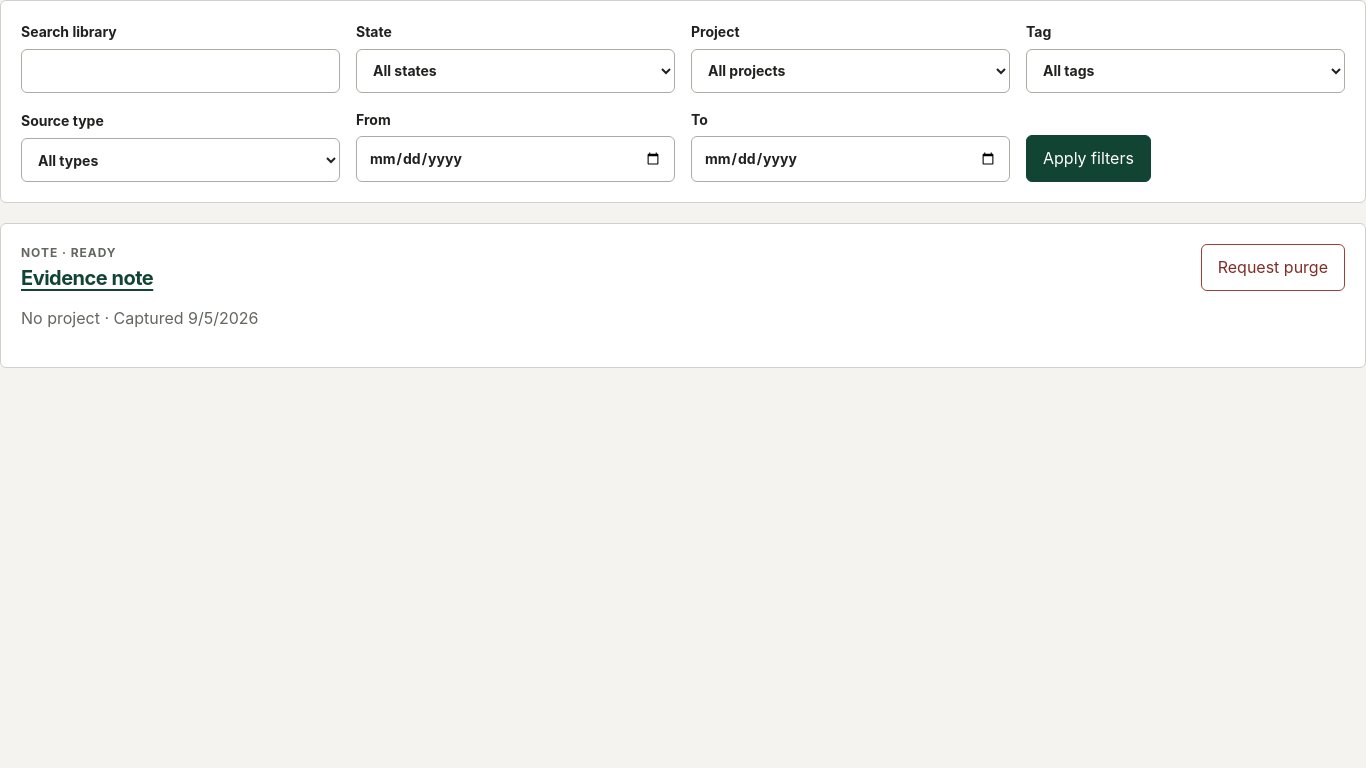
it: LibraryView › resolves and applies an immediate terminal purge replay
expect the link "Evidence note" is shown: met, box [21,266,153,290]
What coordinates should you click on to do the following:
click the button "Request purge"
I would click on:
 (1273, 268)
Its box is [1201,244,1345,291].
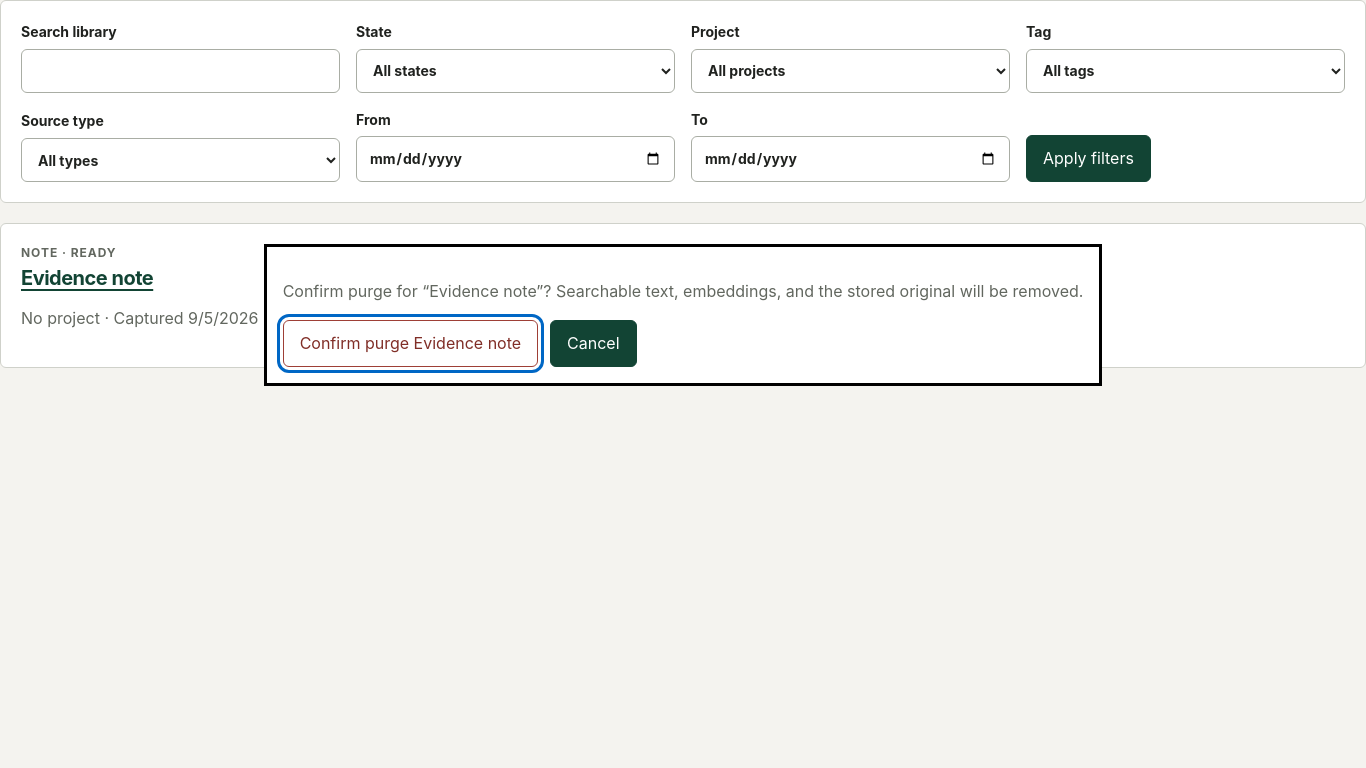
What coordinates should you click on to do the following:
click the button "Confirm purge Evidence note"
I would click on:
 (410, 343)
Its box is [283,320,538,367].
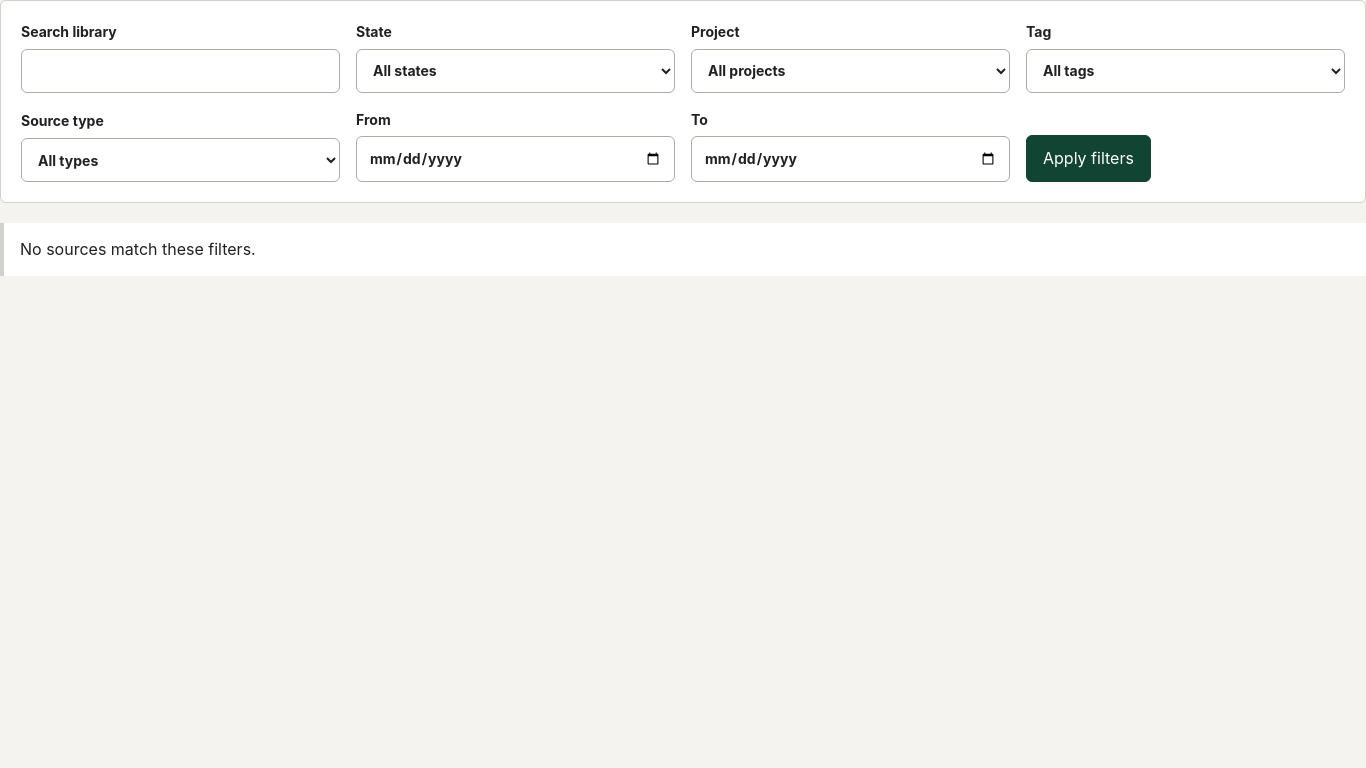
expect the link "Evidence note" is gone: met
